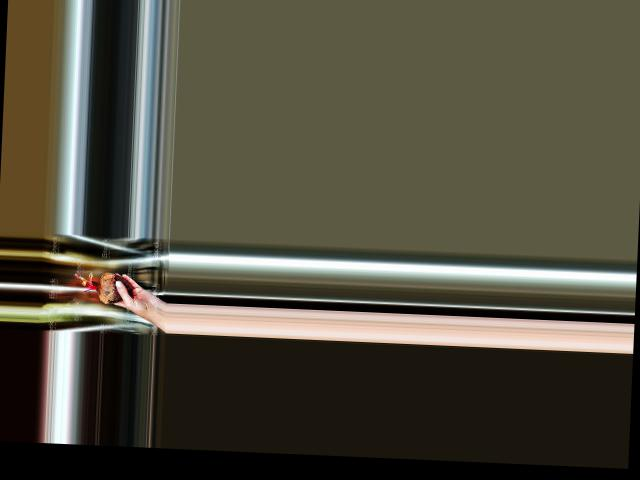beet: (74, 270, 133, 304)
